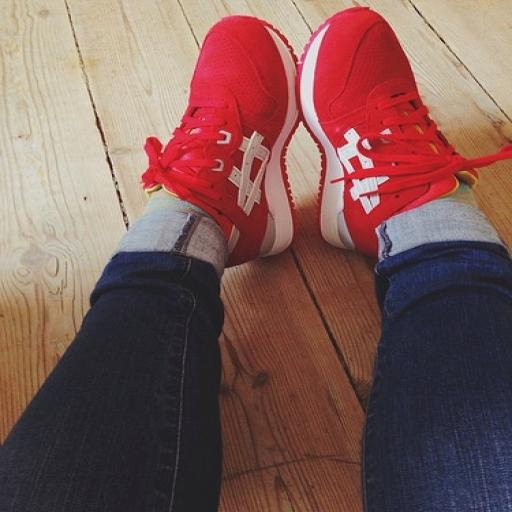shoe: (299, 7, 512, 256), (142, 16, 298, 266)
